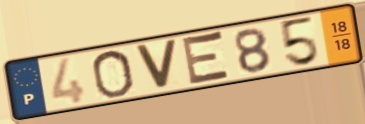4: (49, 56, 88, 106)
5: (276, 14, 323, 68)
8: (232, 26, 273, 75)
E: (181, 29, 234, 88)
O: (89, 48, 136, 100)
V: (132, 38, 180, 91)
